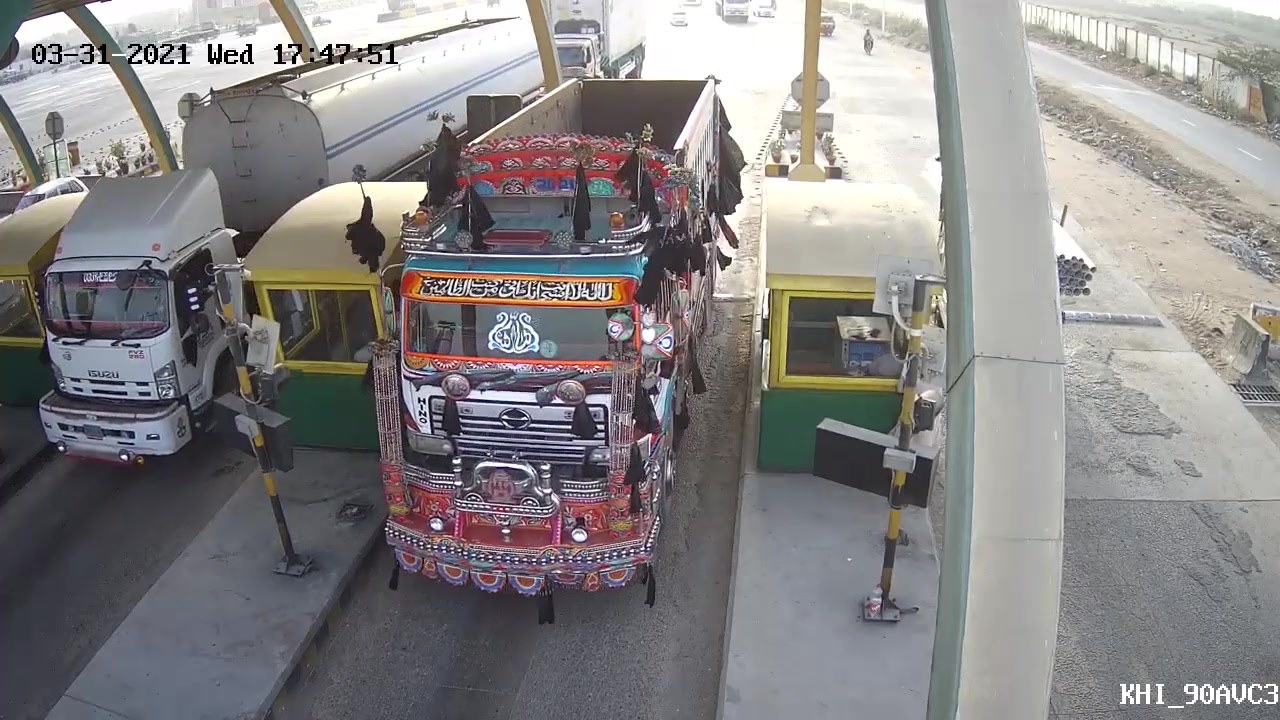F5: (377, 56, 746, 609)
